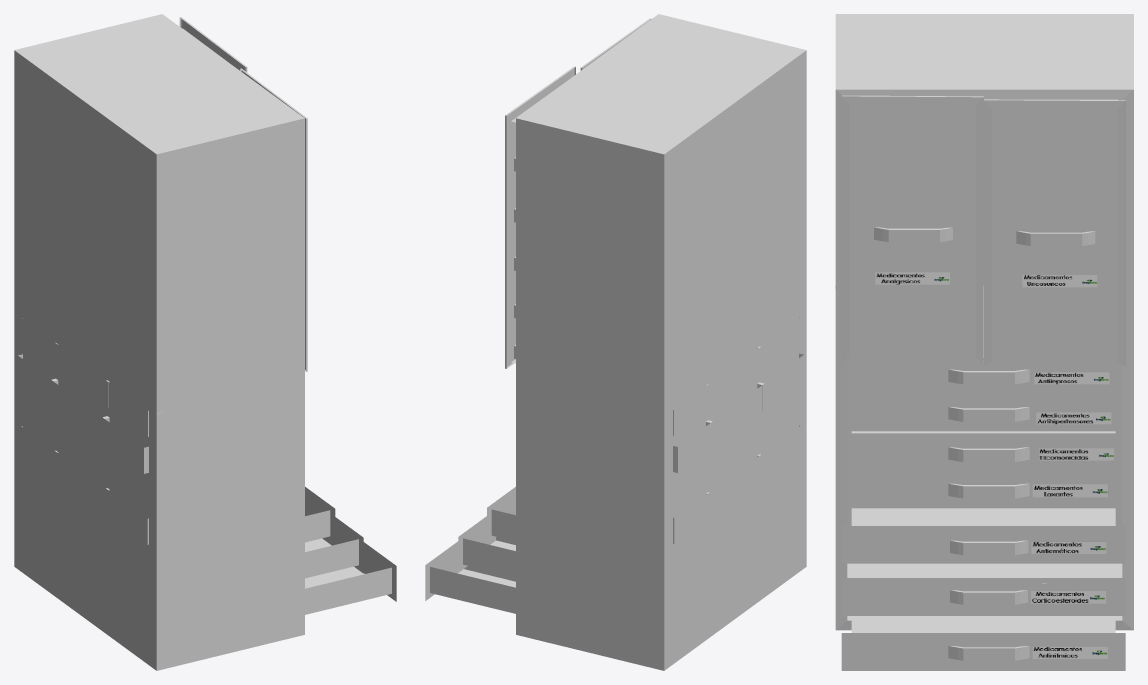
The model's file is mueble cajonera etiquetas .fbx.
The picture shows the model from 3 angles, left to right: view 1: azimuth 30°, elevation 25°; view 2: azimuth 150°, elevation 25°; view 3: azimuth 270°, elevation 25°; orthographic projection. The views are drawn at different scales.
Visible parts, largest first — view 1: Torreta de farmacia, Cubo.002, Cubo.004, Cubo, Torreta de farmacia.002, Cubo.001, Cubo.006, Cubo.008, Cubo.072; view 2: Torreta de farmacia, Cubo.002, Cubo.004, Cubo, Cubo.072, Torreta de farmacia.002, Cubo.001, Cubo.006; view 3: Cubo.008, Cubo.072, Torreta de farmacia, Cubo.001, Cubo.006, Cubo.002, Cubo.003, Cubo, Cubo.004, Torreta de farmacia.002, Plano.058, Plano.049 (+6 smaller).
Part boxes in pixels (box(x1,y1,x2,y2)): Torreta de farmacia: box(14, 14, 304, 670); Cubo.002: box(305, 542, 396, 614); Cubo.004: box(18, 354, 148, 473); Cubo: box(21, 426, 148, 544); Torreta de farmacia.002: box(22, 318, 148, 436); Cubo.001: box(305, 517, 363, 578); Cubo.006: box(305, 487, 335, 544); Cubo.008: box(240, 68, 307, 371); Cubo.072: box(179, 17, 247, 72); Torreta de farmacia: box(516, 14, 806, 670); Cubo.002: box(425, 541, 515, 613); Cubo.004: box(673, 353, 803, 472); Cubo: box(673, 425, 800, 544); Cubo.072: box(505, 66, 575, 368); Torreta de farmacia.002: box(673, 317, 799, 436); Cubo.001: box(458, 516, 515, 577); Cubo.006: box(487, 487, 515, 543); Cubo.008: box(841, 95, 983, 362); Cubo.072: box(984, 99, 1125, 365); Torreta de farmacia: box(835, 14, 1133, 630); Cubo.001: box(841, 563, 1125, 615); Cubo.006: box(841, 508, 1125, 563); Cubo.002: box(841, 616, 1125, 670); Cubo.003: box(847, 431, 1122, 471); Cubo: box(847, 471, 1122, 508); Cubo.004: box(847, 395, 1122, 431); Torreta de farmacia.002: box(847, 358, 1122, 395); Plano.058: box(1032, 484, 1108, 497); Plano.049: box(1022, 274, 1097, 287).
Bounding box in the file's own units: 103 × 200 × 100.
11 materials, 1 textured.
